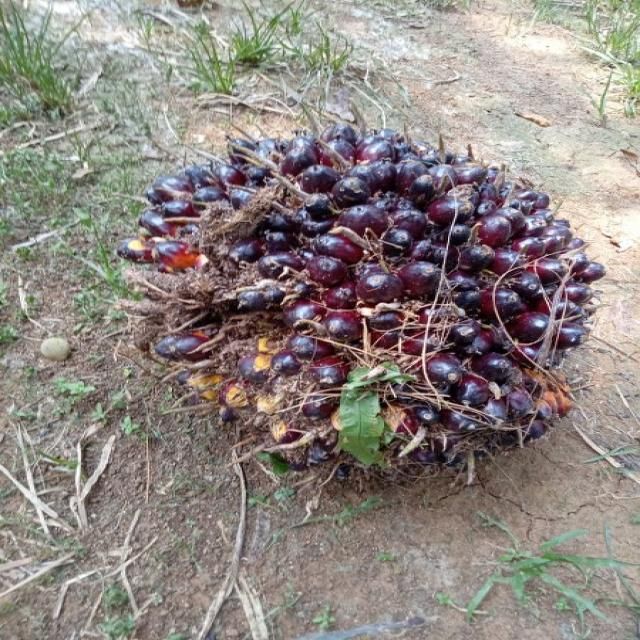fraksi 00: (121, 110, 606, 498)
